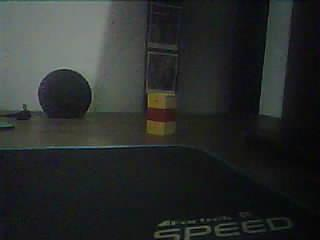lego: (146, 92, 176, 135)
